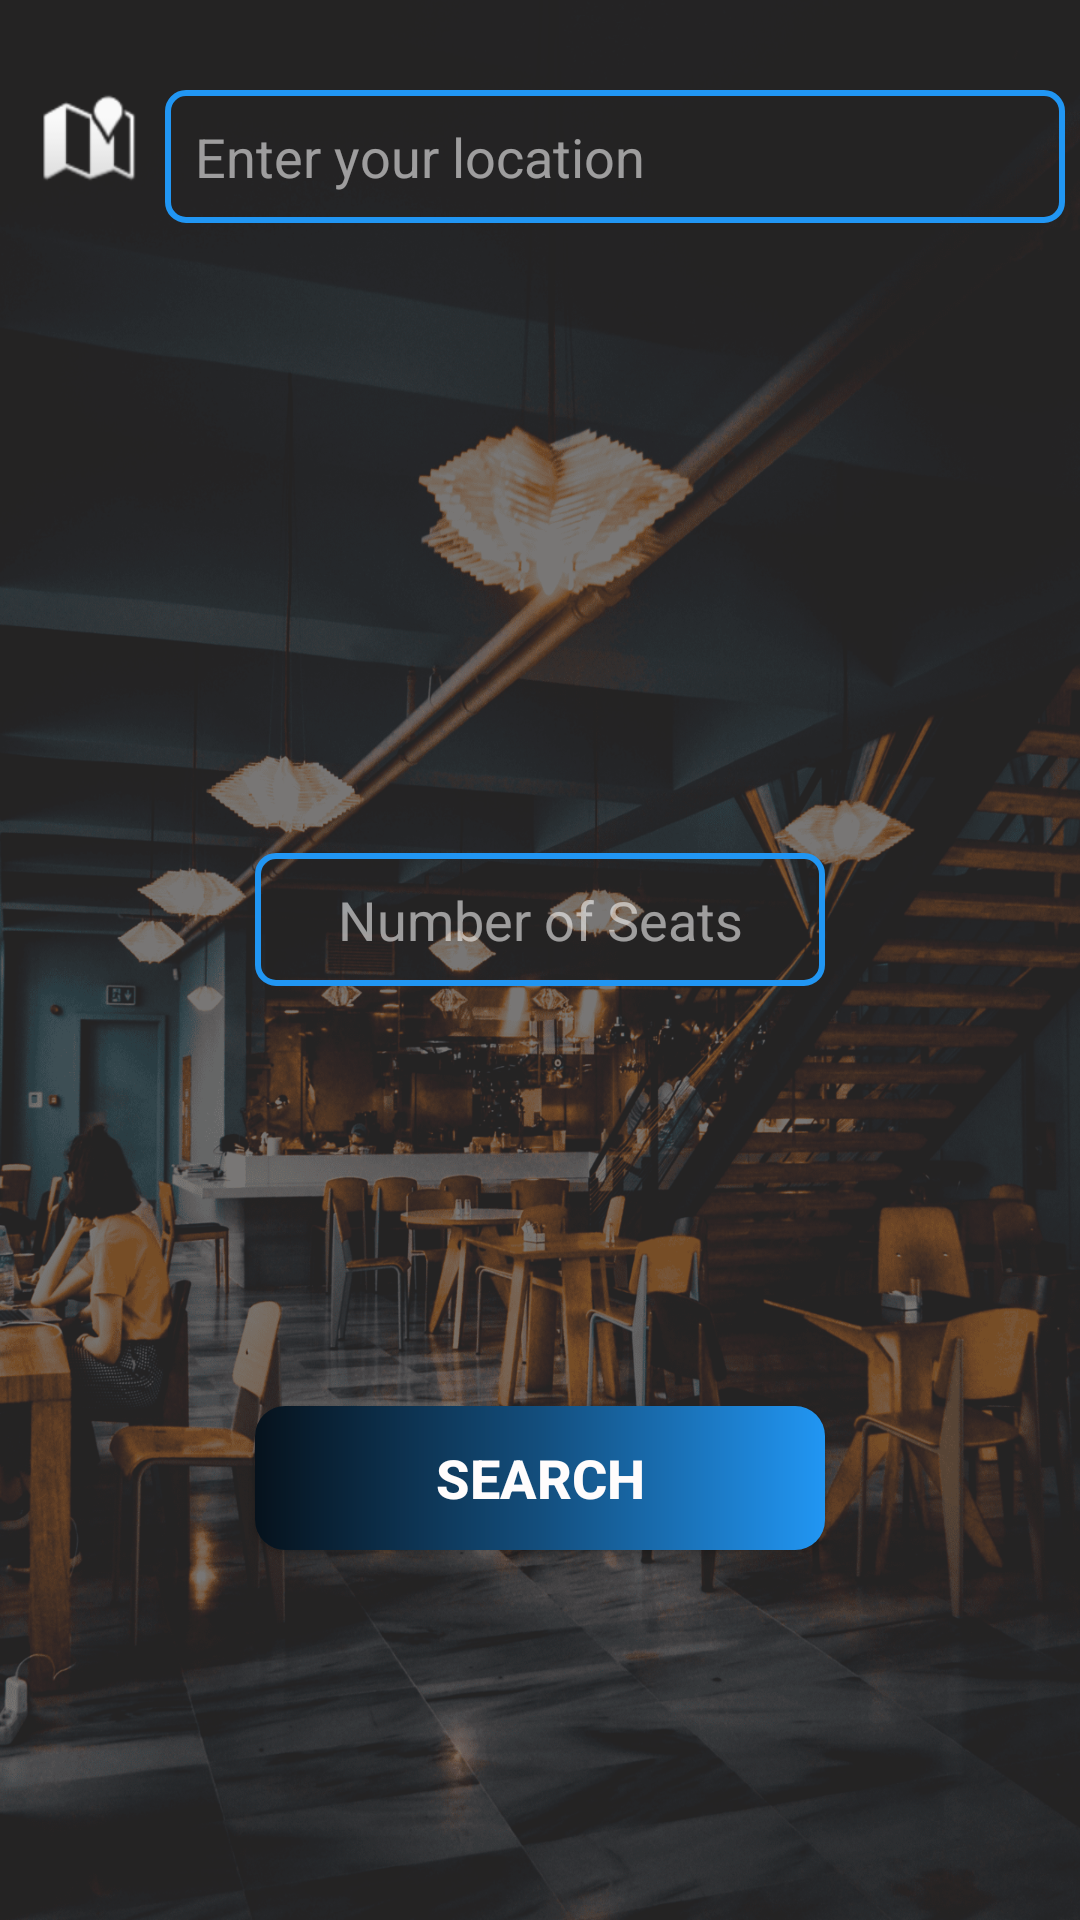

Screen size 1080 x 1920. Icon name, then its center in pixels as (x=x, y=y):
map: (x=89, y=138)
